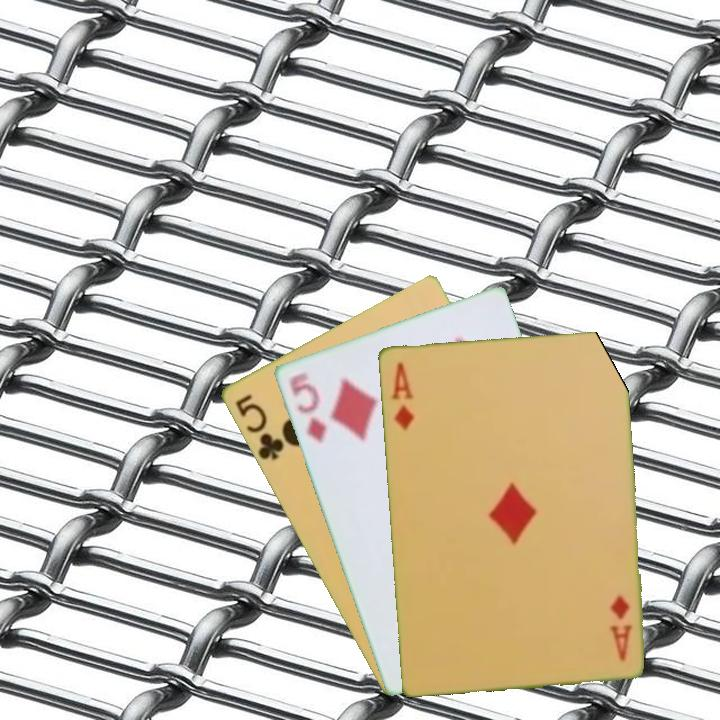5c: (231, 390, 287, 463)
5d: (285, 368, 329, 447)
Ad: (387, 358, 417, 433), (606, 591, 634, 664)
